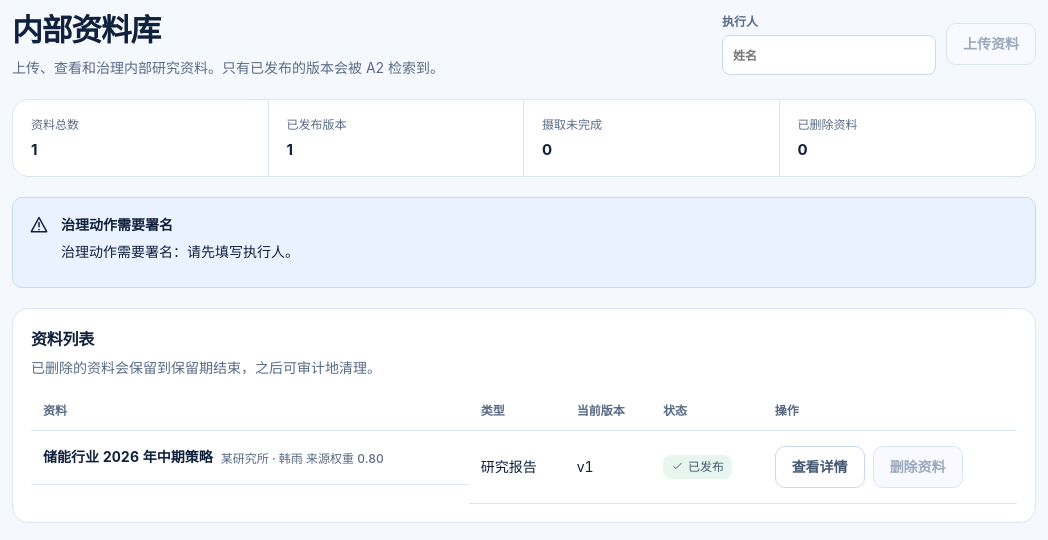
Test: ResearchLibraryPage › requires a named actor for governance and keeps the browsing controls usable
Expected: the heading "资料列表" is shown, left=31, top=329, right=94, bottom=349
Expected: the button "上传资料" is disabled, left=946, top=23, right=1036, bottom=65
Type "韩雨" into the field labelled "执行人" at point(829, 55), box left=722, top=35, right=936, bottom=75
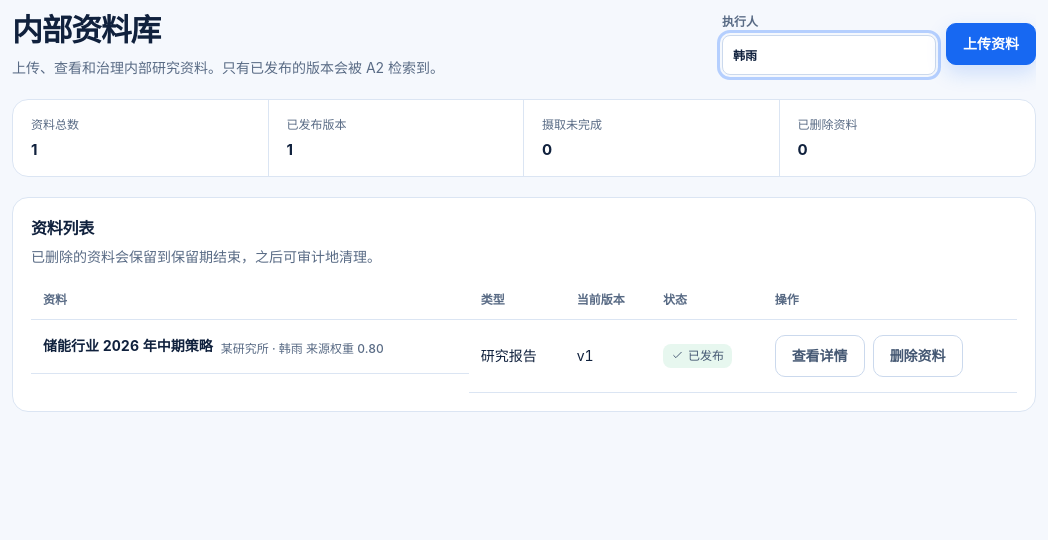
Result: the button "上传资料" is enabled at left=946, top=23, right=1036, bottom=65
Result: the button "删除资料" is enabled at left=873, top=335, right=963, bottom=377
